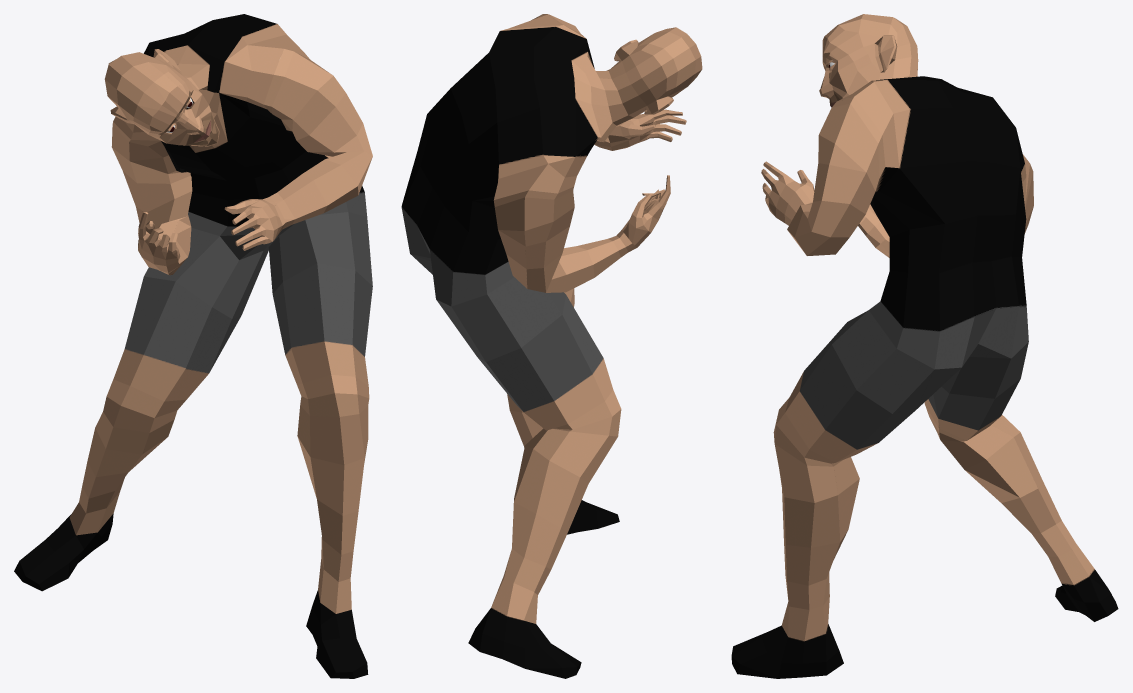
Rendered from PlayerDead(7).obj.
The picture shows the model from 3 angles, left to right: view 1: azimuth 30°, elevation 25°; view 2: azimuth 150°, elevation 25°; view 3: azimuth 270°, elevation 25°; orthographic projection. The views are drawn at different scales.
Parts seen in each view (by area): view 1: Plane002; view 2: Plane002; view 3: Plane002.
Part boxes in pixels (x1=…): Plane002: x1=14, y1=14, x2=372, y2=678; Plane002: x1=401, y1=14, x2=702, y2=678; Plane002: x1=731, y1=14, x2=1118, y2=678.
Size of the model in its own units: 663 by 1412 by 850.
